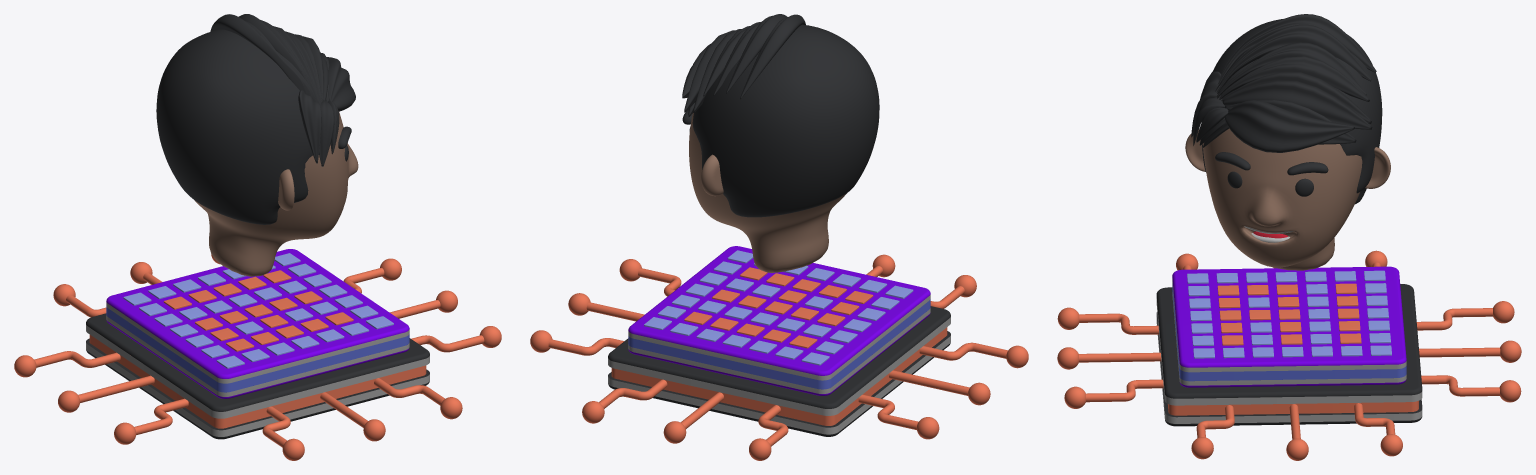
Rendered from ai-face-generator-3d-animated-icon-256854692394.glb.
3 views of the same model, side by side, from view 1: azimuth 30°, elevation 25°; view 2: azimuth 150°, elevation 25°; view 3: azimuth 270°, elevation 25° (orthographic).
Parts seen in each view (by area): view 1: Cube.018, Cube.001, Pin, Cube.002, Cube.076, Cube.031, Cube.004, Cube.003; view 2: Cube.018, Cube.001, Pin, Cube.002, Cube.076, Cube.004, Cube.031, Cube.003; view 3: Cube.031, Cube.001, Cube.076, Pin, Cube.002, Cube.004, Cube.003, Cube.018, Cube.078, Sphere.006.
Part boxes in pixels (x1=…): Cube.018: x1=156, y1=29, x2=312, y2=224; Cube.001: x1=106, y1=249, x2=409, y2=398; Pin: x1=14, y1=254, x2=501, y2=460; Cube.002: x1=123, y1=253, x2=393, y2=368; Cube.076: x1=194, y1=112, x2=358, y2=276; Cube.031: x1=210, y1=14, x2=355, y2=166; Cube.004: x1=86, y1=313, x2=429, y2=439; Cube.003: x1=86, y1=325, x2=429, y2=436; Cube.018: x1=692, y1=24, x2=879, y2=217; Cube.001: x1=628, y1=246, x2=930, y2=395; Pin: x1=530, y1=254, x2=1028, y2=460; Cube.002: x1=644, y1=250, x2=913, y2=365; Cube.076: x1=689, y1=113, x2=846, y2=272; Cube.004: x1=608, y1=306, x2=950, y2=436; Cube.031: x1=682, y1=14, x2=805, y2=116; Cube.003: x1=608, y1=317, x2=950, y2=434; Cube.031: x1=1191, y1=14, x2=1376, y2=152; Cube.001: x1=1172, y1=266, x2=1406, y2=387; Cube.076: x1=1185, y1=128, x2=1390, y2=270; Pin: x1=1057, y1=250, x2=1521, y2=460; Cube.002: x1=1187, y1=270, x2=1391, y2=358; Cube.004: x1=1156, y1=284, x2=1422, y2=426; Cube.003: x1=1156, y1=299, x2=1422, y2=423; Cube.018: x1=1201, y1=19, x2=1382, y2=204; Cube.078: x1=1215, y1=152, x2=1328, y2=175; Sphere.006: x1=1227, y1=171, x2=1313, y2=196.
Size of the model in its own units: 0.4981 by 0.4093 by 0.4911.
